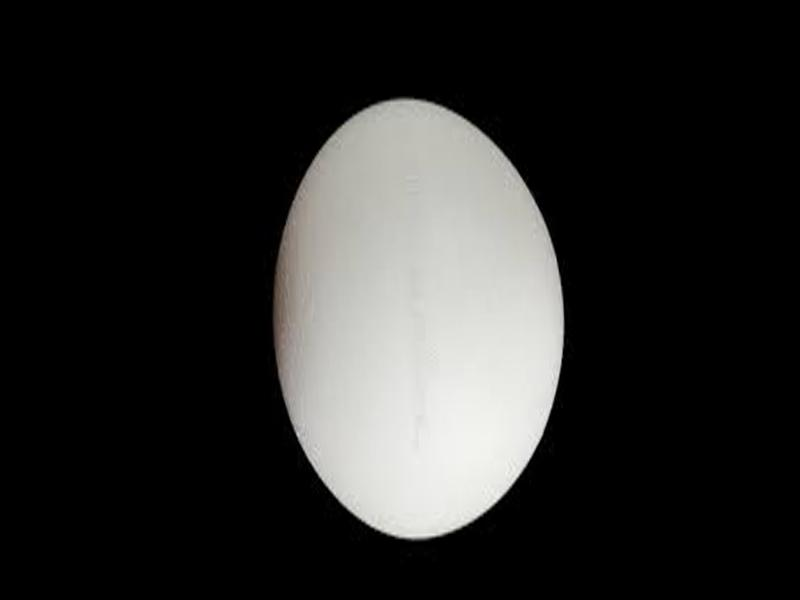Eggs: (261, 93, 572, 547)
